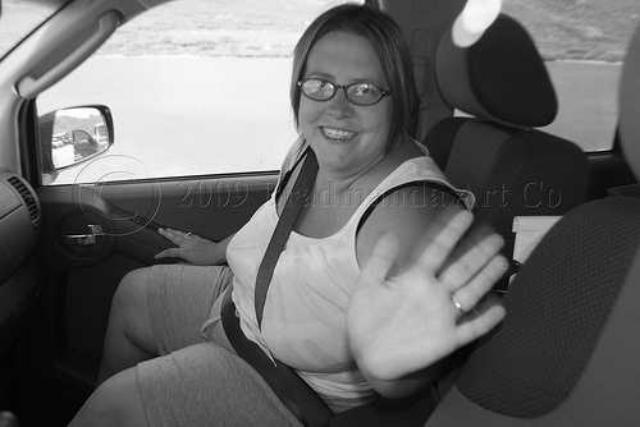SafeDriving: (304, 72, 334, 94), (347, 80, 379, 100)
Seatbelt: (238, 147, 322, 328)
